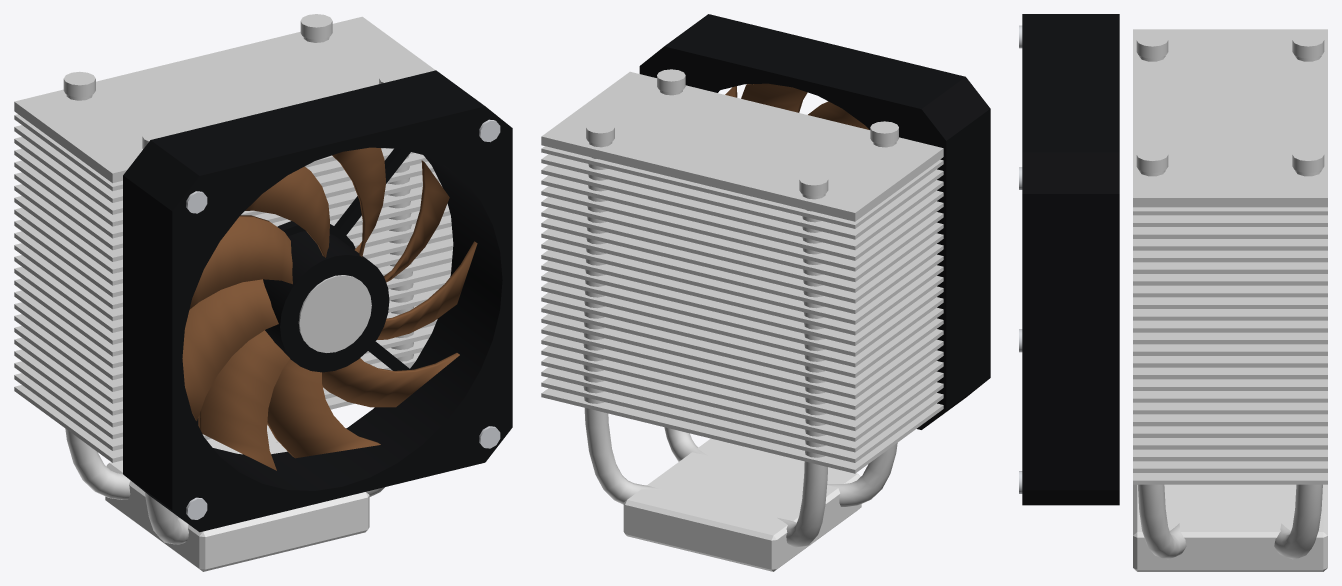
File: hw_cool_alu_tower.glb
The picture shows the model from 3 angles, left to right: view 1: azimuth 30°, elevation 25°; view 2: azimuth 150°, elevation 25°; view 3: azimuth 270°, elevation 25°; orthographic projection. The views are drawn at different scales.
Parts seen in each view (by area): view 1: Body, Rotor_Z_0; view 2: Body, Rotor_Z_0; view 3: Body.
Part boxes in pixels (x1,y1,x2,y2): Body: (14,14,512,571); Rotor_Z_0: (182,147,477,470); Body: (541,14,990,571); Rotor_Z_0: (725,83,869,129); Body: (1019,14,1327,571).
Bounding box in the file's own units: 0.09 × 0.1121 × 0.0697.
